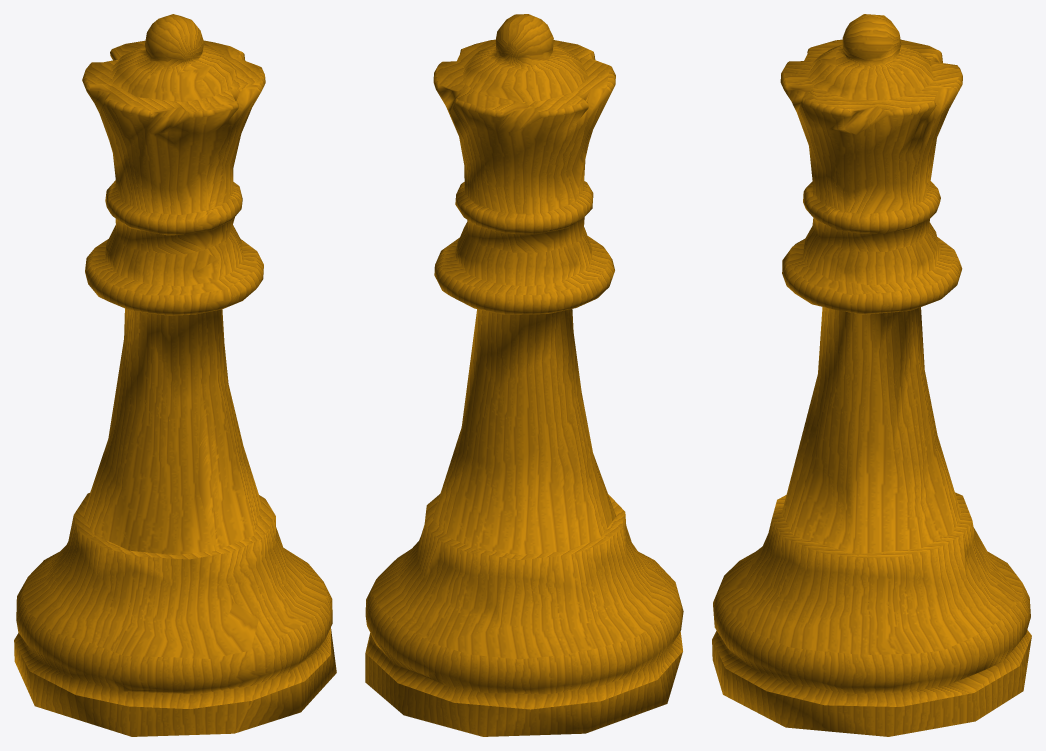
File: Queen_low_uv.obj
The picture shows the model from 3 angles, left to right: view 1: azimuth 30°, elevation 25°; view 2: azimuth 150°, elevation 25°; view 3: azimuth 270°, elevation 25°; orthographic projection.
Parts seen in each view (by area): view 1: Queen; view 2: Queen; view 3: Queen.
Part boxes in pixels (box(x1,y1,x2,y2)): Queen: box(14, 14, 336, 736); Queen: box(365, 14, 683, 736); Queen: box(712, 14, 1031, 736).
Bounding box in the file's own units: 1.2 × 2.68 × 1.19.
